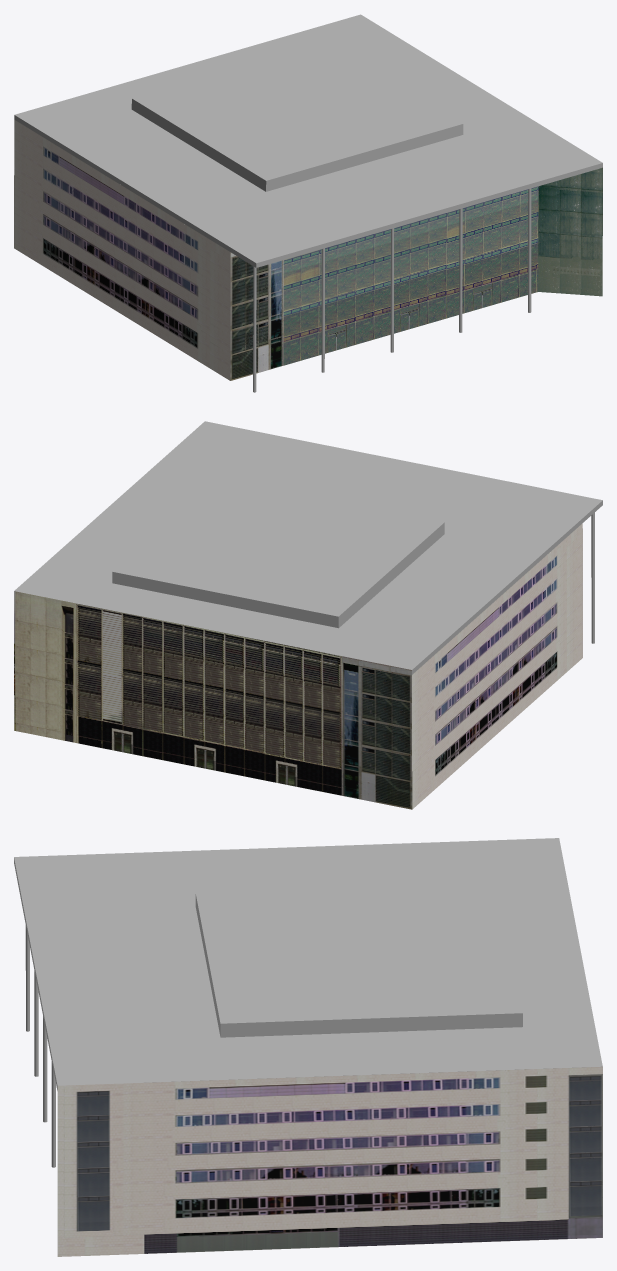
Rendered from hoersaalzentrum.gltf.
The picture shows the model from 3 angles, top to bottom: view 1: azimuth 30°, elevation 25°; view 2: azimuth 150°, elevation 25°; view 3: azimuth 270°, elevation 25°; orthographic projection. The views are drawn at different scales.
Parts seen in each view (by area): view 1: Dach.1; view 2: Dach.1; view 3: Dach.1.
Part boxes in pixels (x1,y1,x2,y2): Dach.1: (14, 14, 602, 392); Dach.1: (14, 421, 602, 809); Dach.1: (14, 838, 602, 1256).
Size of the model in its own units: 65.59 by 23.13 by 66.21.
7 materials, 6 textured.
